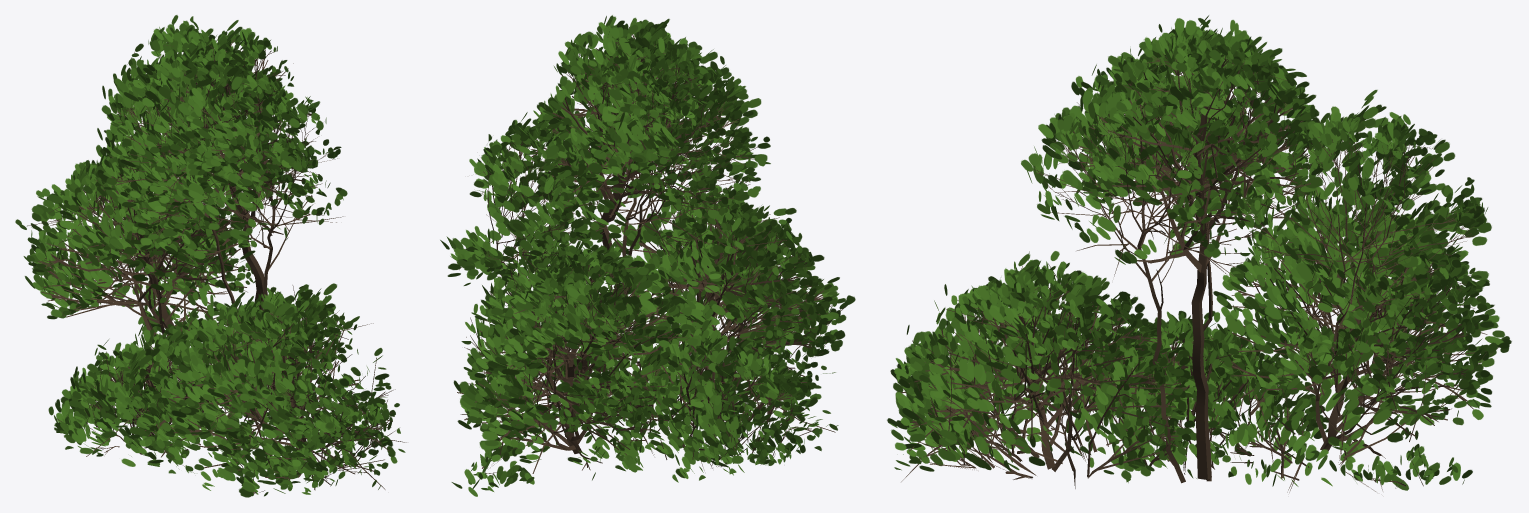
3 renders of one model, left to right at view 1: azimuth 30°, elevation 25°; view 2: azimuth 150°, elevation 25°; view 3: azimuth 270°, elevation 25°, orthographic. The views are drawn at different scales.
Parts seen in each view (by area): view 1: oak 01.001_trunk_Mat.001_0.463; view 2: oak 01.001_trunk_Mat.001_0.463; view 3: oak 01.001_trunk_Mat.001_0.463.
Part boxes in pixels (x1=…): oak 01.001_trunk_Mat.001_0.463: x1=15, y1=15, x2=406, y2=497; oak 01.001_trunk_Mat.001_0.463: x1=440, y1=15, x2=855, y2=496; oak 01.001_trunk_Mat.001_0.463: x1=887, y1=15, x2=1511, y2=492.
Size of the model in its own units: 3.34 by 4.86 by 6.14.
Materials: 2 (1 with a texture image).
